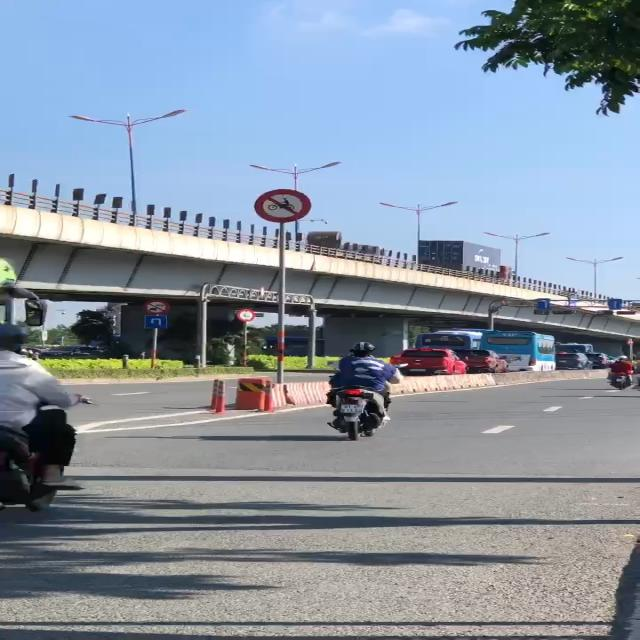Bien bao cam xe may: (254, 185, 316, 225)
